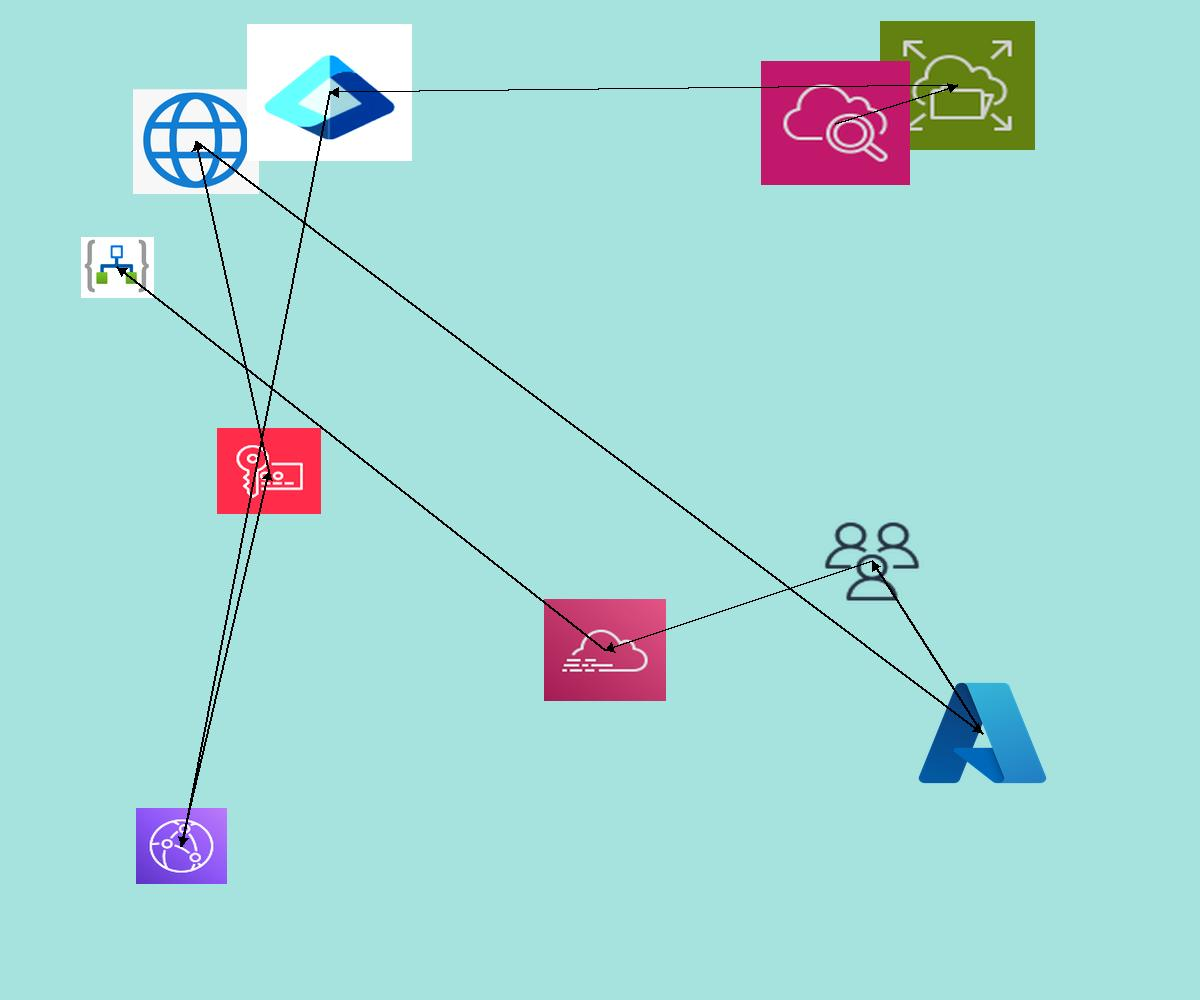AWS-CloudFront: (136, 808, 227, 884)
AWS-CloudTrail: (544, 599, 666, 701)
AWS-CloudWatch: (761, 61, 910, 185)
AWS-EFS: (880, 21, 1035, 150)
AWS-Key-Management-Service: (217, 428, 321, 514)
AWS-Res_Users: (821, 519, 923, 604)
Azure_http: (133, 89, 259, 194)
Azure_integration-204-Logic-Apps: (81, 237, 154, 298)
Azure_microsoft_entra: (247, 24, 412, 161)
Azure_services: (913, 675, 1052, 791)
